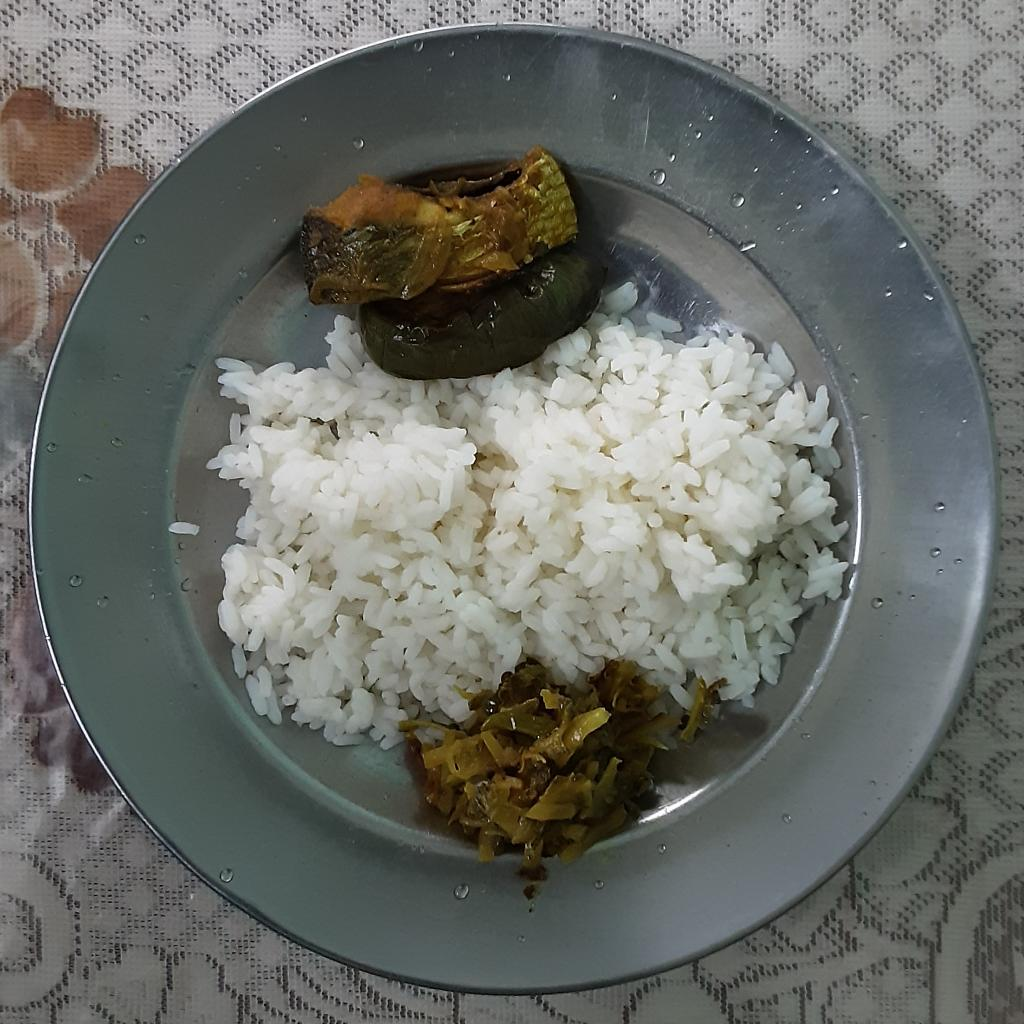begun-vaji: (360, 242, 607, 381)
fish: (296, 149, 581, 301)
korola-vaji: (408, 656, 727, 873)
rice: (207, 280, 849, 746)
